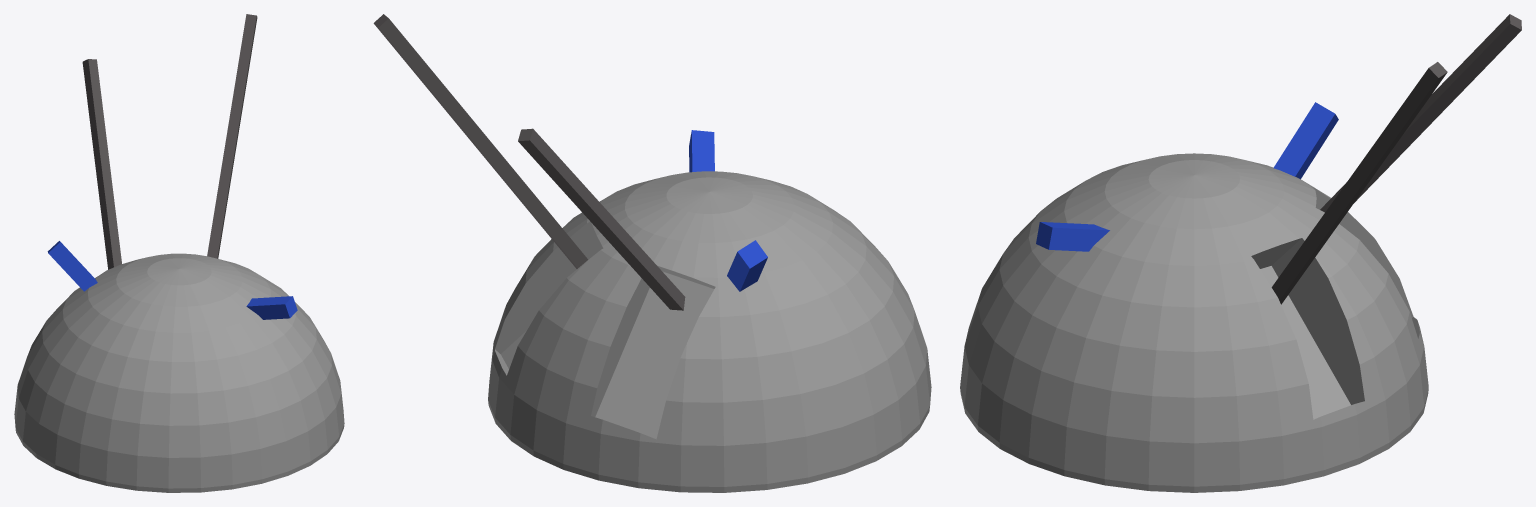
Rendered from phase_gunn.fbx.
3 renders of one model, left to right at view 1: azimuth 30°, elevation 25°; view 2: azimuth 150°, elevation 25°; view 3: azimuth 270°, elevation 25°, orthographic. The views are drawn at different scales.
Visible parts, largest first — view 1: Sphere, Cube_001, Cube, Cube_003, Cube_002; view 2: Sphere, Cube, Cube_001, Cube_003, Cube_002; view 3: Sphere, Cube, Cube_001, Cube_003, Cube_002.
Part boxes in pixels (bbox=[...]): Sphere: bbox=[14, 253, 344, 492]; Cube_001: bbox=[82, 59, 121, 269]; Cube: bbox=[207, 14, 257, 258]; Cube_003: bbox=[47, 241, 97, 291]; Cube_002: bbox=[246, 296, 297, 319]; Sphere: bbox=[488, 171, 931, 492]; Cube: bbox=[373, 14, 588, 268]; Cube_001: bbox=[518, 128, 685, 310]; Cube_003: bbox=[727, 240, 767, 291]; Cube_002: bbox=[689, 130, 714, 172]; Sphere: bbox=[960, 153, 1428, 492]; Cube: bbox=[1271, 62, 1447, 304]; Cube_001: bbox=[1320, 14, 1521, 212]; Cube_003: bbox=[1273, 102, 1338, 179]; Cube_002: bbox=[1036, 222, 1109, 251].
Size of the model in its own units: 2.15 by 2.06 by 2.4.
